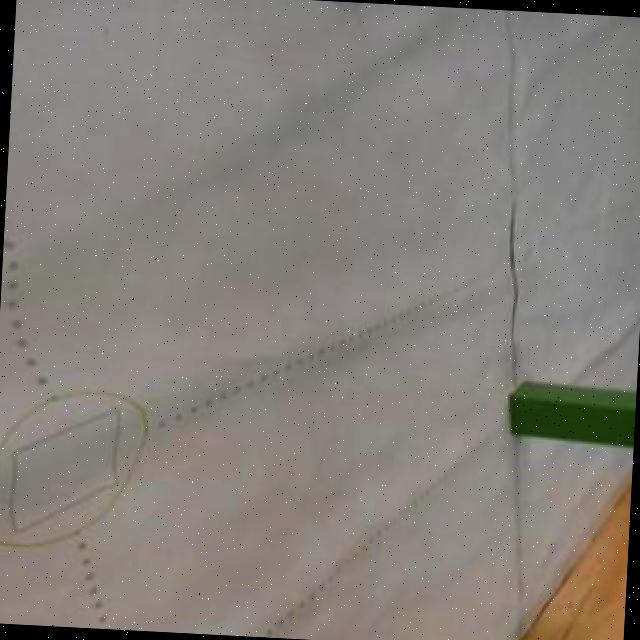greenbox: (508, 379, 637, 452)
